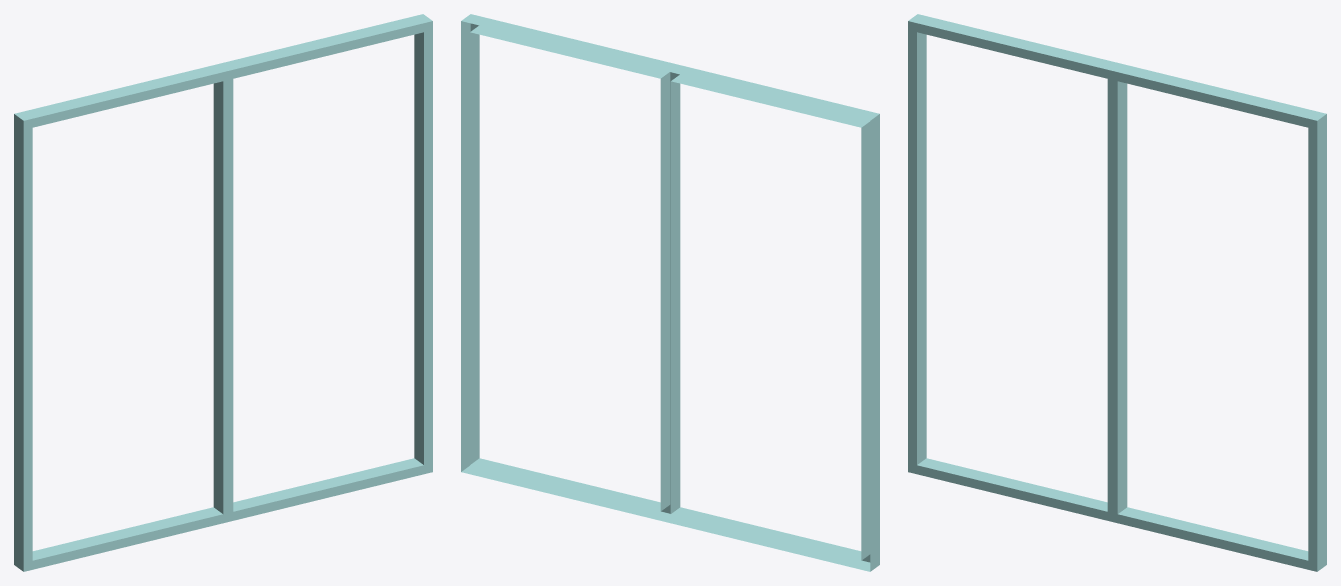
File: Ventanal V.fbx
3 renders of one model, left to right at view 1: azimuth 30°, elevation 25°; view 2: azimuth 150°, elevation 25°; view 3: azimuth 330°, elevation 25°, orthographic.
Visible parts, largest first — view 1: Ventanal_V; view 2: Ventanal_V; view 3: Ventanal_V.
Part boxes in pixels (left/top/right/bottom): Ventanal_V: left=14, top=14, right=432, bottom=571; Ventanal_V: left=461, top=14, right=879, bottom=571; Ventanal_V: left=908, top=14, right=1326, bottom=571.
Bounding box in the file's own units: 1.9 × 2 × 0.0774.
